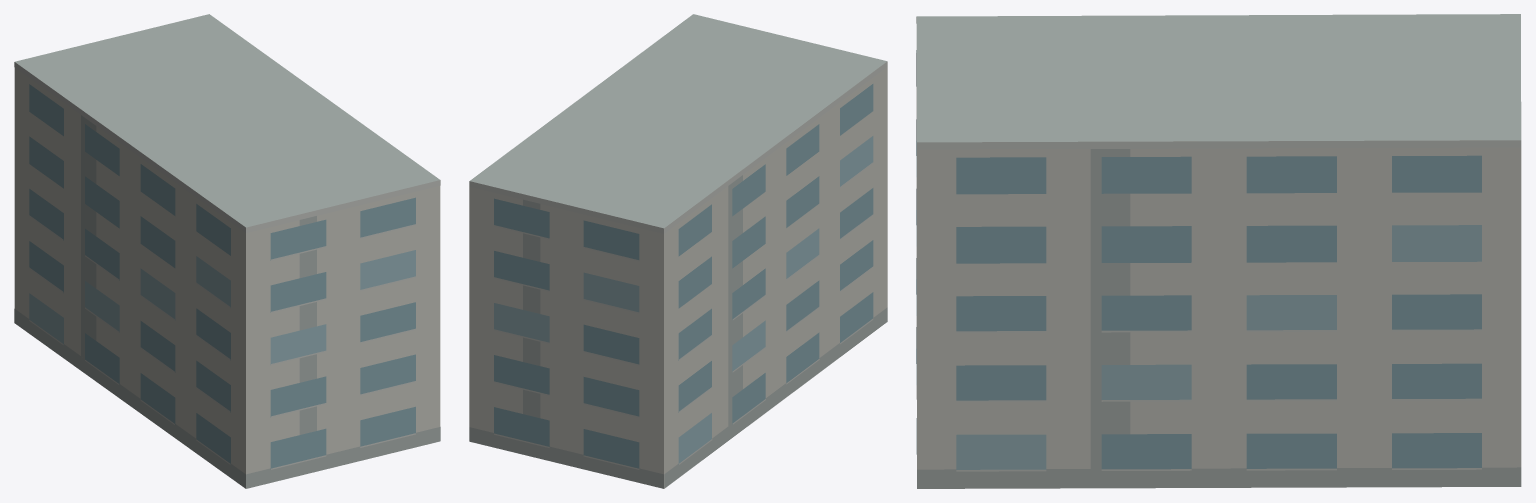
The model's file is survey-upis-32532539.glb.
3 renders of one model, left to right at view 1: azimuth 30°, elevation 25°; view 2: azimuth 150°, elevation 25°; view 3: azimuth 270°, elevation 25°, orthographic. The views are drawn at different scales.
Visible parts, largest first — view 1: survey-upis-32532539.tmp; view 2: survey-upis-32532539.tmp; view 3: survey-upis-32532539.tmp.
Part boxes in pixels (x1,y1,x2,y2): survey-upis-32532539.tmp: [14, 14, 440, 488]; survey-upis-32532539.tmp: [469, 14, 887, 488]; survey-upis-32532539.tmp: [916, 14, 1521, 488].
Size of the model in its own units: 9.14 by 11.5 by 18.21.
